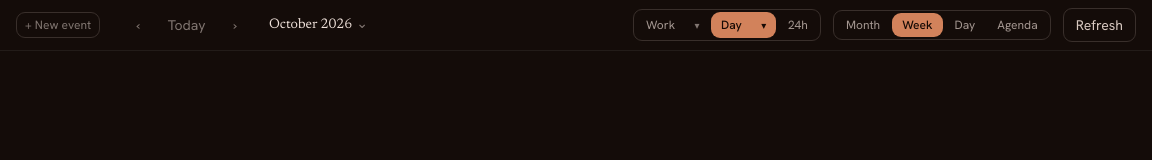
CalendarHeader › New event is disabled with its reason when no calendar can take one
// A click says why, and starts nothing.
What coordinates should you click on to do the following:
click the button "+ New event"
I would click on:
 (58, 25)
Its box is left=16, top=12, right=100, bottom=38.
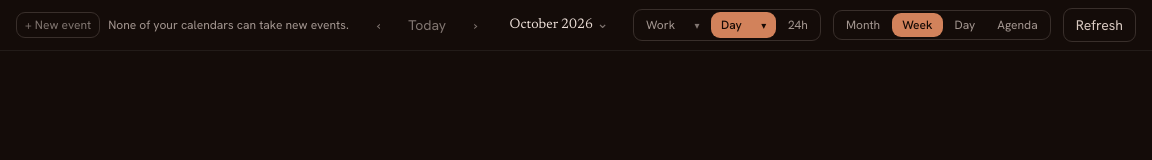
expect the message reads "None of your calendars can take new events.": met, box left=108, top=17, right=349, bottom=33
